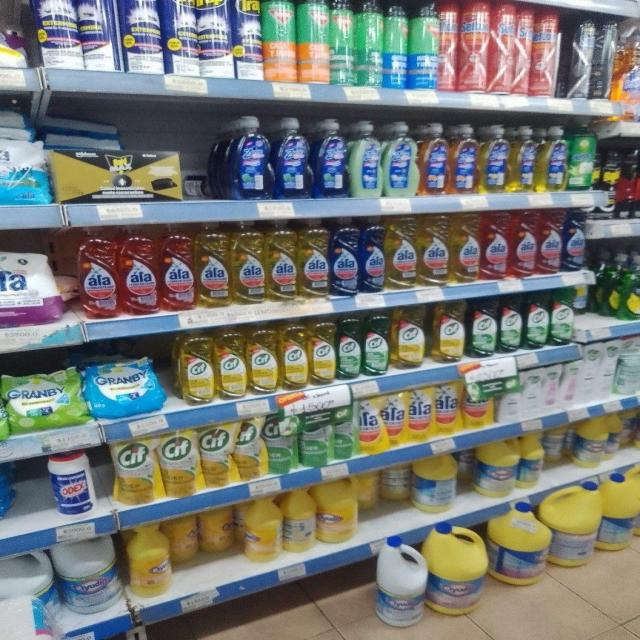ala_conc_amarillo: (196, 220, 230, 308), (231, 219, 265, 305), (266, 218, 297, 301), (298, 217, 329, 298), (387, 215, 418, 290), (419, 214, 450, 287), (452, 213, 481, 284)
ala_conc_azul: (330, 216, 359, 296), (360, 216, 385, 294), (564, 208, 586, 272)
ala_conc_rojo: (76, 224, 118, 320), (119, 222, 159, 316), (160, 222, 194, 312), (482, 212, 510, 280), (511, 210, 537, 278), (539, 209, 562, 275)
ala_sachet_amarillo: (358, 394, 383, 454), (407, 386, 433, 443), (435, 381, 461, 436), (384, 391, 406, 448)
cif_conc_bot_amarilla: (177, 328, 214, 405), (392, 304, 427, 370), (216, 326, 247, 400), (248, 321, 278, 395), (431, 300, 465, 364), (280, 318, 308, 390), (309, 316, 336, 386)
cif_conc_botella_verde: (363, 309, 390, 377), (468, 298, 498, 358), (337, 312, 362, 381), (550, 288, 575, 346), (499, 295, 523, 353), (525, 292, 549, 350)
cif_conc_sachet_amarillo: (112, 436, 157, 506), (159, 428, 199, 498), (200, 420, 233, 488), (235, 414, 264, 481)
cif_conc_sachet_verde: (265, 408, 296, 475), (300, 404, 332, 468), (334, 400, 356, 461)
zorro: (383, 120, 419, 198), (314, 118, 347, 198), (349, 120, 381, 198), (479, 124, 508, 194), (421, 122, 448, 196), (450, 124, 478, 194), (510, 126, 537, 192)
